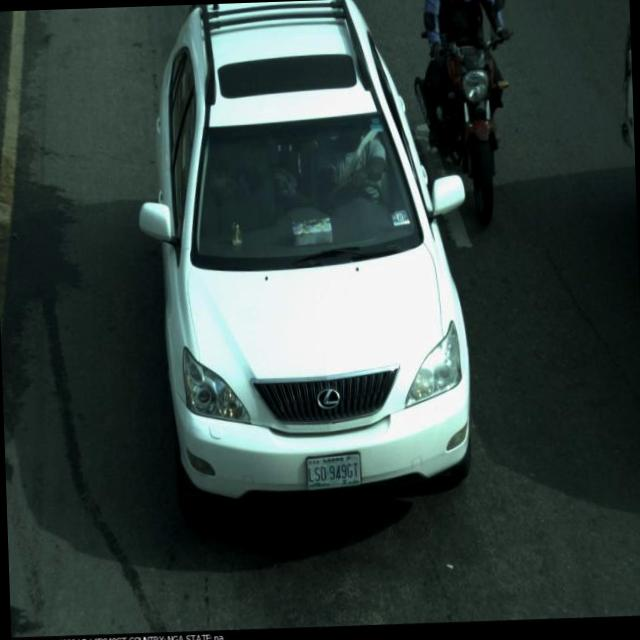person_with_seatbelt: (304, 106, 398, 220)
